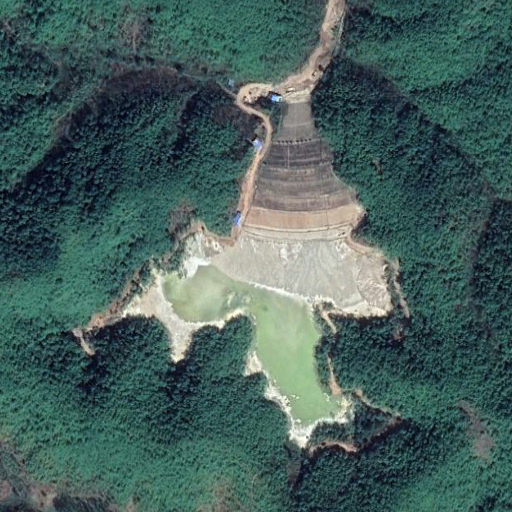tp: (140, 100, 392, 439)
